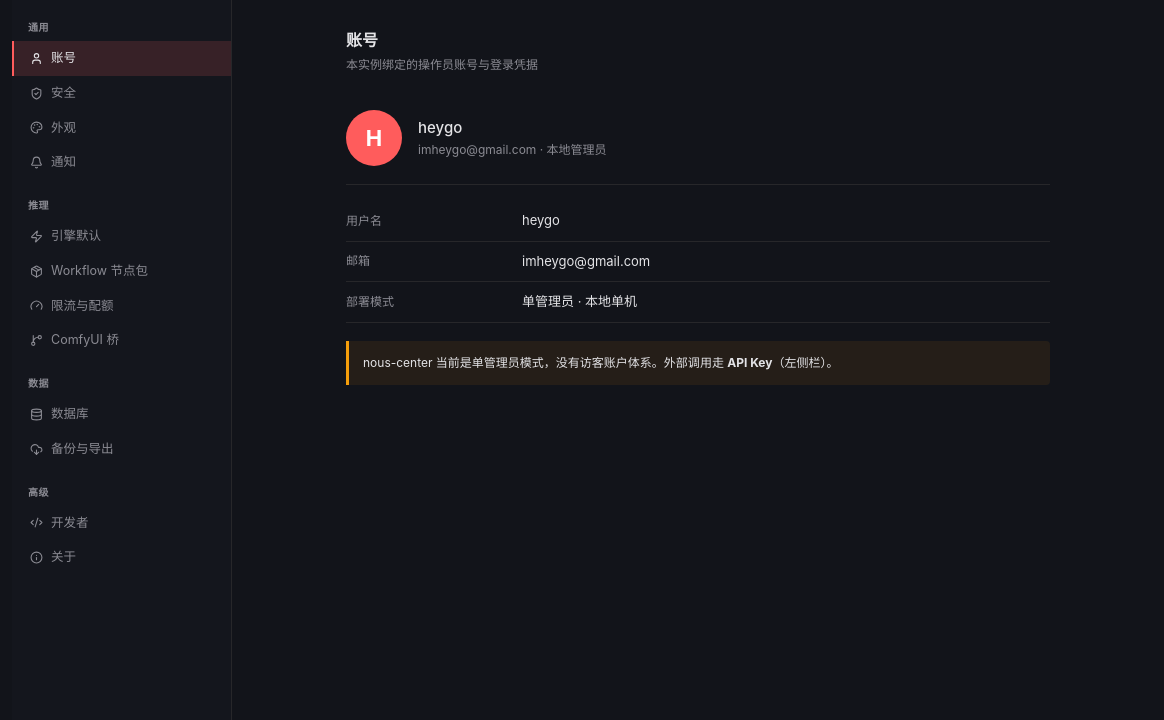
it: SettingsOverlay sub-nav (m16 alignment) › switches to 节点包 sub-page
What coordinates should you click on to do the following:
click the button "Workflow 节点包"
I would click on:
 (122, 271)
Its box is left=12, top=254, right=231, bottom=289.
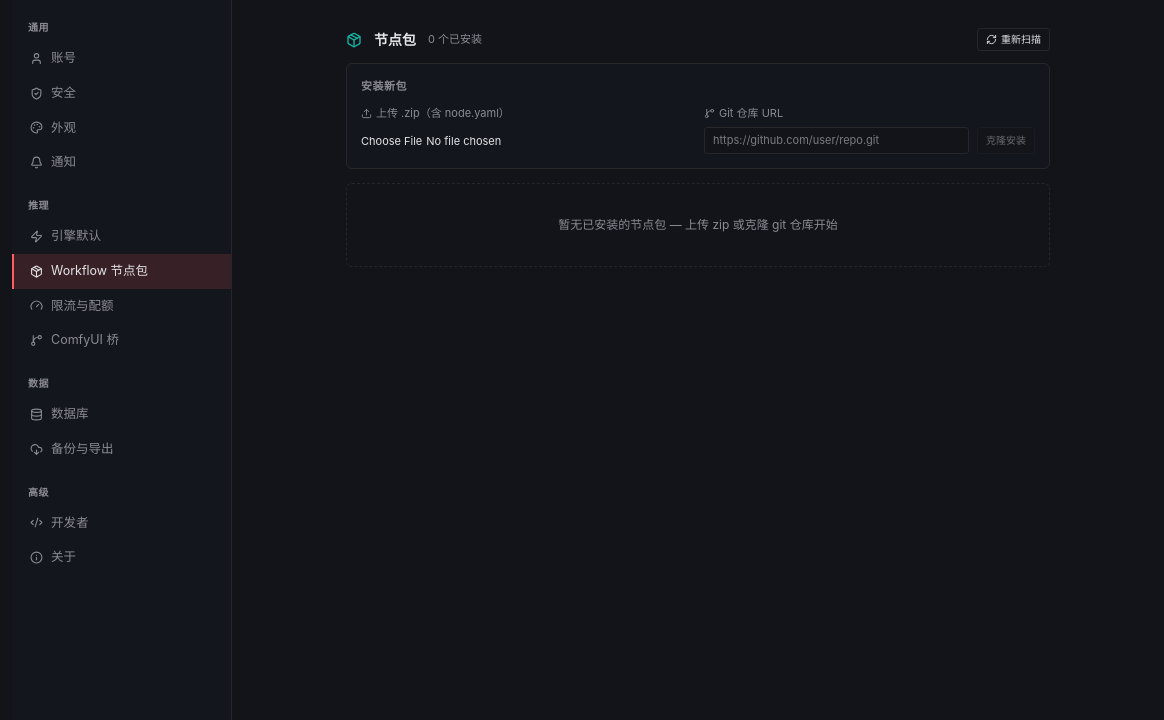
Expected: the text "0 个已安装" is shown, left=428, top=31, right=482, bottom=48
